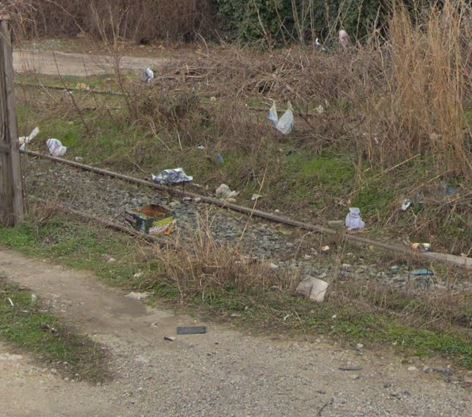trash: (122, 198, 184, 242), (264, 96, 304, 139), (292, 269, 331, 305), (335, 202, 373, 235), (149, 166, 195, 187), (12, 123, 45, 151), (40, 135, 76, 160), (211, 179, 243, 204), (136, 67, 159, 84)
